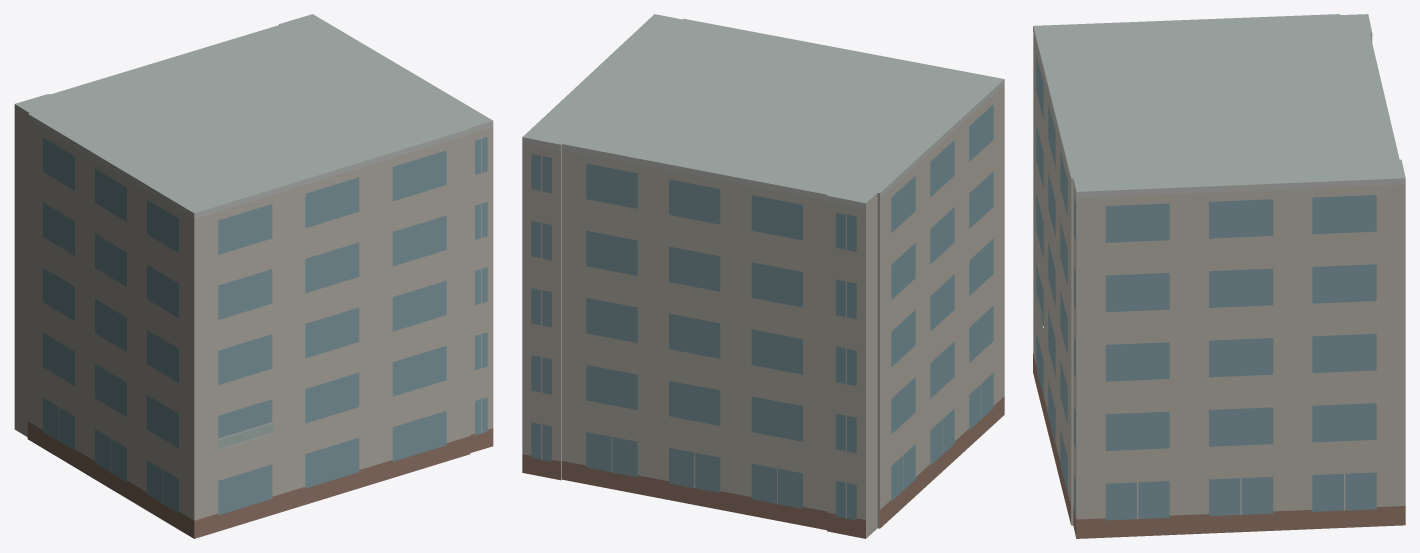
Rendered from survey-upis-32654454.glb.
3 views of the same model, side by side, from view 1: azimuth 30°, elevation 25°; view 2: azimuth 150°, elevation 25°; view 3: azimuth 270°, elevation 25° (orthographic). The views are drawn at different scales.
Visible parts, largest first — view 1: survey-upis-32654454.tmp; view 2: survey-upis-32654454.tmp; view 3: survey-upis-32654454.tmp.
Part boxes in pixels (<box>): survey-upis-32654454.tmp: <box>14,14,493,538</box>; survey-upis-32654454.tmp: <box>522,14,1004,538</box>; survey-upis-32654454.tmp: <box>1033,14,1405,538</box>.
Size of the model in its own units: 15.41 by 14 by 13.63.
